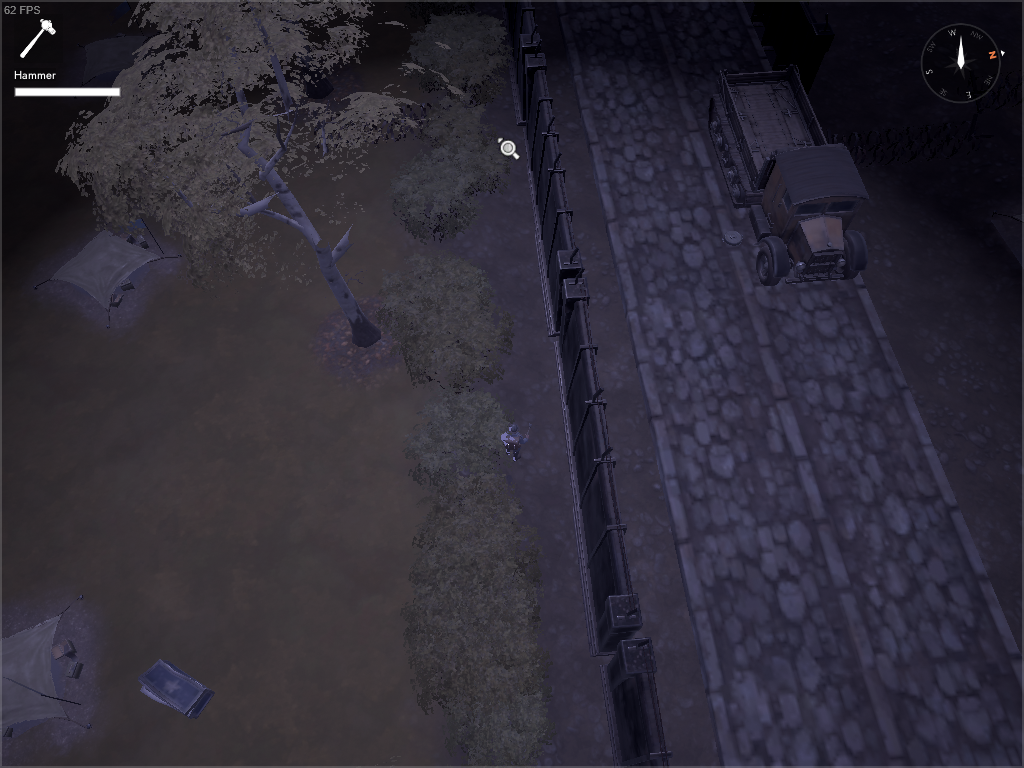flatbed: (704, 60, 872, 289)
fortified_wall: (552, 266, 649, 661), (517, 37, 590, 337), (596, 635, 676, 768), (497, 1, 549, 106)
foxhole: (29, 212, 188, 337), (1, 590, 97, 755), (68, 28, 172, 111), (983, 200, 1024, 280)
player: (496, 420, 534, 463)
storage_box: (134, 654, 218, 722)
wire: (826, 104, 986, 174), (304, 99, 444, 173), (405, 59, 503, 149), (400, 13, 505, 78)
